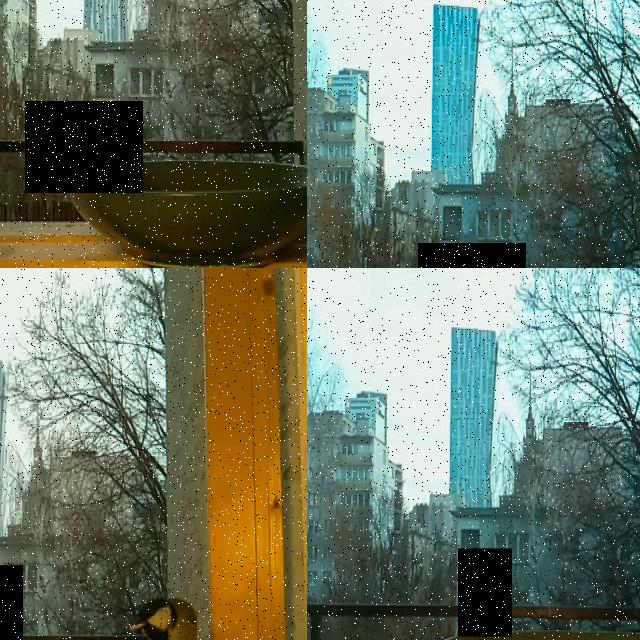Bogatka: (129, 595, 201, 640)
Modraszka: (458, 548, 512, 636), (418, 243, 526, 268)
Wrobel: (25, 101, 143, 193)
